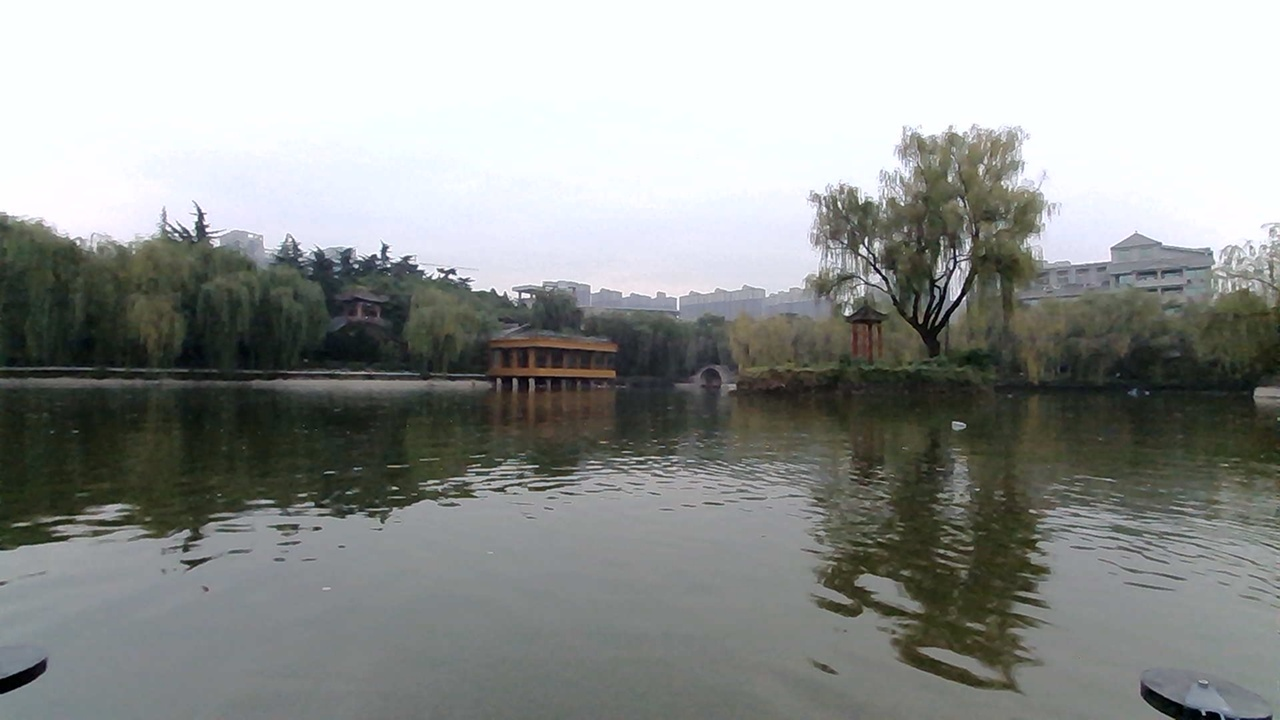bottle: (926, 406, 981, 438)
